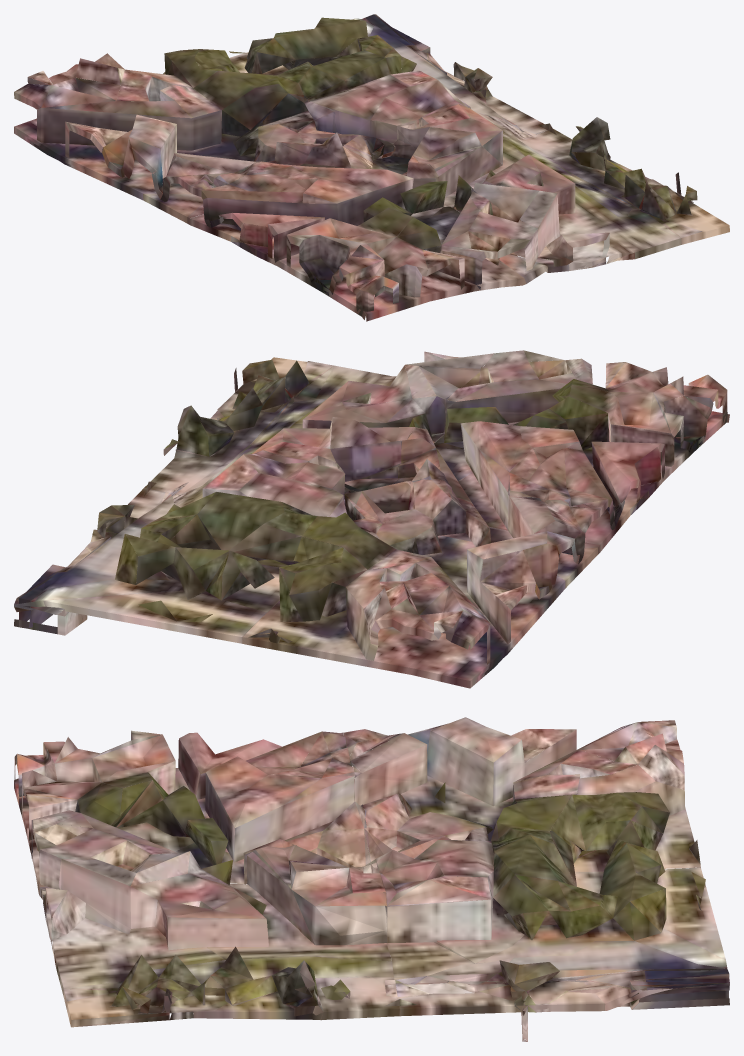
3 views of the same model, one above another, from view 1: azimuth 30°, elevation 25°; view 2: azimuth 150°, elevation 25°; view 3: azimuth 270°, elevation 25° (orthographic). The views are drawn at different scales.
Visible parts, largest first — view 1: Mesh_0; view 2: Mesh_0; view 3: Mesh_0.
Boxes of the visible parts, left/top/right/bottom form: Mesh_0: left=14, top=14, right=729, bottom=321; Mesh_0: left=14, top=350, right=729, bottom=688; Mesh_0: left=14, top=717, right=729, bottom=1041.
Bounding box in the file's own units: 266 × 63.27 × 330.
2 materials, 2 textured.
